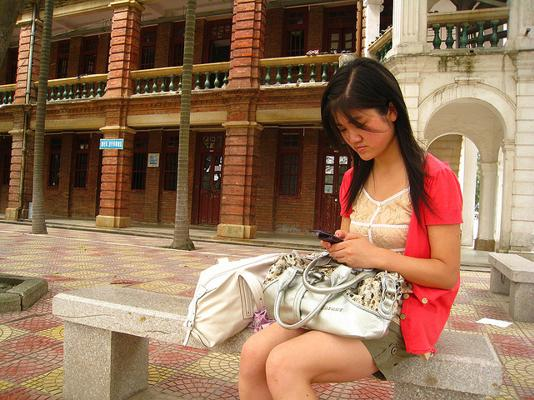person: (239, 56, 464, 400)
